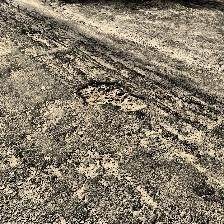pothole: (75, 82, 147, 110), (25, 30, 45, 43)
